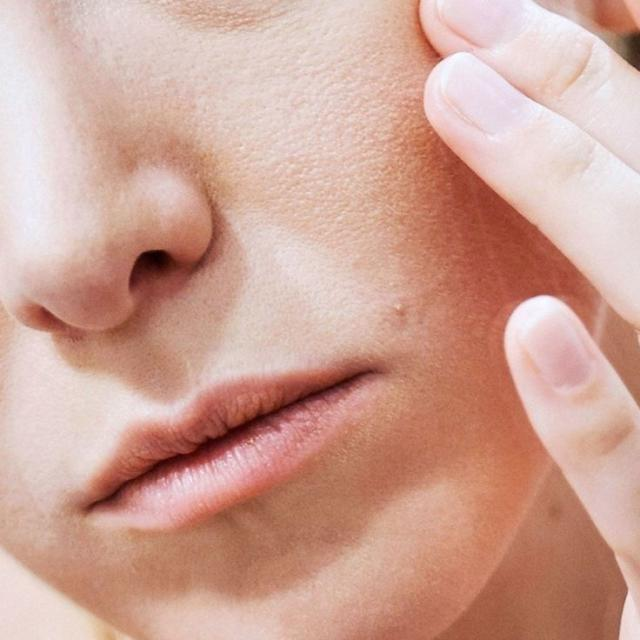Dry-Skin: (276, 78, 367, 155), (426, 315, 501, 398), (351, 510, 426, 590), (384, 212, 464, 282), (158, 58, 223, 130), (396, 84, 448, 156)
